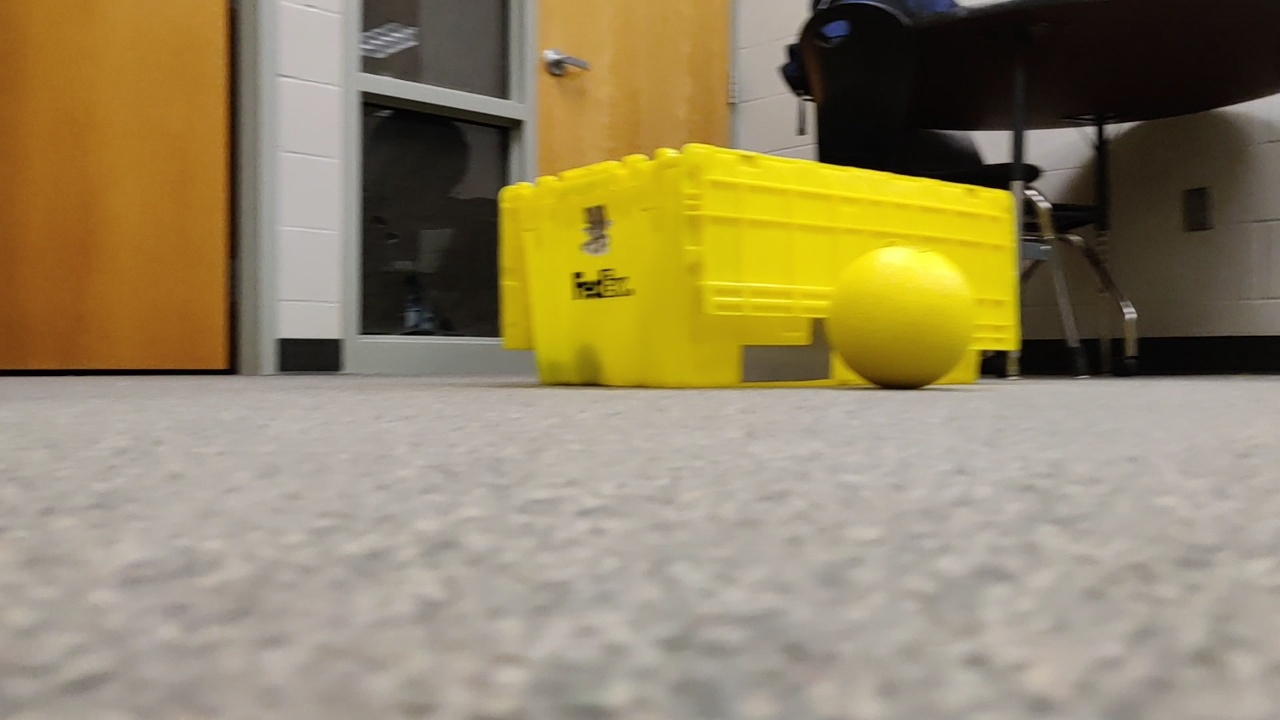Ball: (834, 240, 973, 386)
